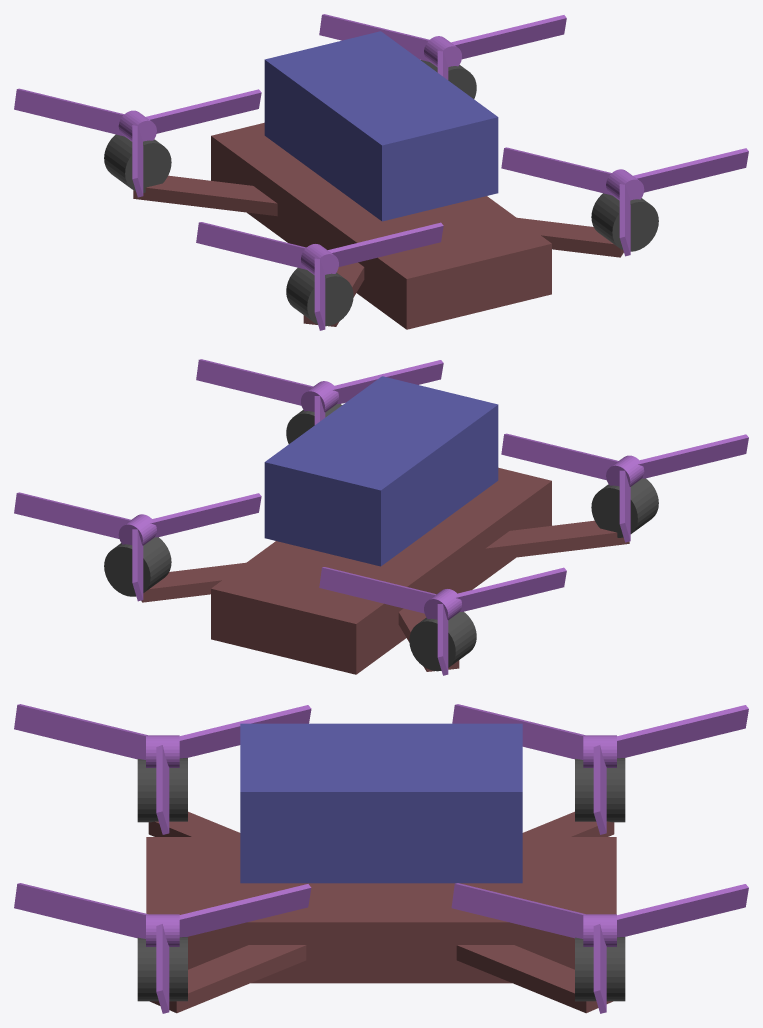
Rendered from Panda Cavity.glb.
3 views of the same model, one above another, from view 1: azimuth 30°, elevation 25°; view 2: azimuth 150°, elevation 25°; view 3: azimuth 270°, elevation 25° (orthographic). The views are drawn at different scales.
Visible parts, largest first — view 1: battery, frame_body, prop_3, prop_0, prop_2, prop_1, arm_3, motor_0, motor_2, motor_3, arm_0, motor_1 (+1 smaller); view 2: battery, frame_body, prop_1, prop_2, prop_3, prop_0, arm_2, motor_3, motor_1, motor_2, arm_1, motor_0 (+1 smaller); view 3: battery, frame_body, prop_0, prop_1, prop_2, prop_3, arm_1, arm_0, motor_1, motor_0, motor_3, motor_2 (+2 smaller).
Part boxes in pixels (x1,y1,x2,y2): battery: (264, 31, 498, 221); frame_body: (211, 122, 551, 329); prop_3: (14, 88, 261, 197); prop_0: (501, 147, 748, 256); prop_2: (196, 222, 443, 330); prop_1: (319, 14, 566, 79); arm_3: (133, 175, 277, 216); motor_0: (591, 193, 658, 251); motor_2: (286, 268, 353, 326); motor_3: (104, 134, 171, 192); arm_0: (517, 217, 623, 257); motor_1: (421, 60, 476, 98); battery: (264, 376, 498, 566); frame_body: (211, 467, 551, 674); prop_1: (14, 492, 261, 601); prop_2: (501, 433, 748, 542); prop_3: (319, 567, 566, 675); prop_0: (196, 359, 443, 424); arm_2: (485, 520, 629, 561); motor_3: (409, 611, 476, 671); motor_1: (104, 537, 171, 596); motor_2: (591, 478, 658, 537); arm_1: (141, 562, 245, 602); motor_0: (286, 404, 341, 443); battery: (240, 723, 522, 883); frame_body: (146, 837, 616, 983); prop_0: (14, 883, 311, 1013); prop_1: (451, 883, 748, 1013); prop_2: (14, 704, 311, 834); prop_3: (452, 704, 748, 834); arm_1: (456, 945, 612, 1013); arm_0: (150, 945, 306, 1013); motor_1: (575, 937, 625, 1001); motor_0: (137, 937, 187, 1001); motor_3: (575, 758, 625, 822); motor_2: (137, 758, 187, 822).
Bounding box in the file's own units: 0.2027 × 0.06 × 0.2187.
